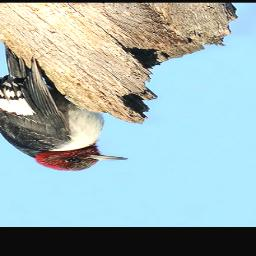Woodpecker: (0, 46, 130, 171)
